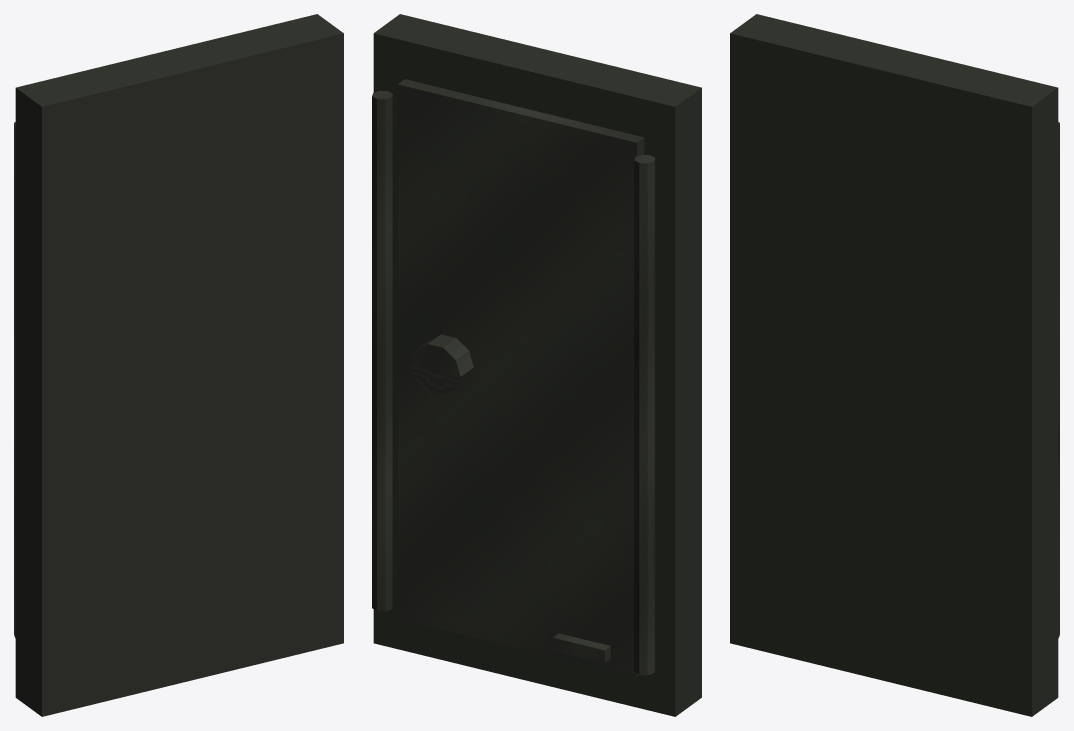
The model's file is env_door_service_steel_a.glb.
3 renders of one model, left to right at view 1: azimuth 30°, elevation 25°; view 2: azimuth 150°, elevation 25°; view 3: azimuth 330°, elevation 25°, orthographic.
Visible parts, largest first — view 1: env_door_service_steel_a; view 2: env_door_service_steel_a; view 3: env_door_service_steel_a.
Boxes of the visible parts, x1,y1,x2,y2 form: env_door_service_steel_a: (14, 14, 343, 716); env_door_service_steel_a: (372, 14, 701, 716); env_door_service_steel_a: (730, 14, 1059, 716).
Size of the model in its own units: 1.45 by 2.8 by 0.405.
Materials: 1 (1 with a texture image).
